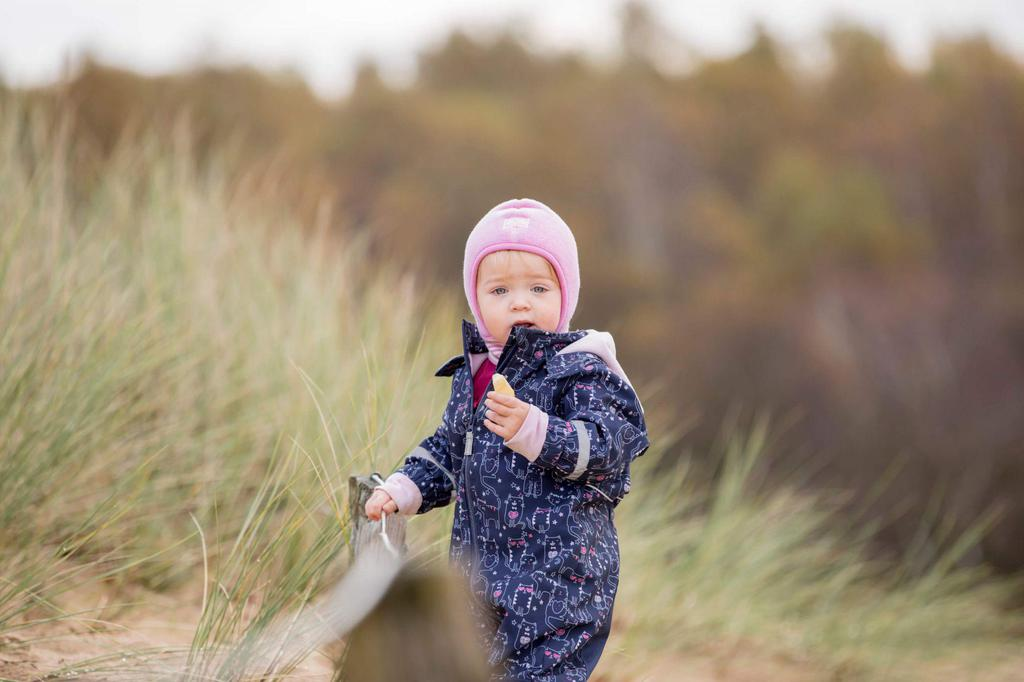child: (350, 185, 641, 681)
